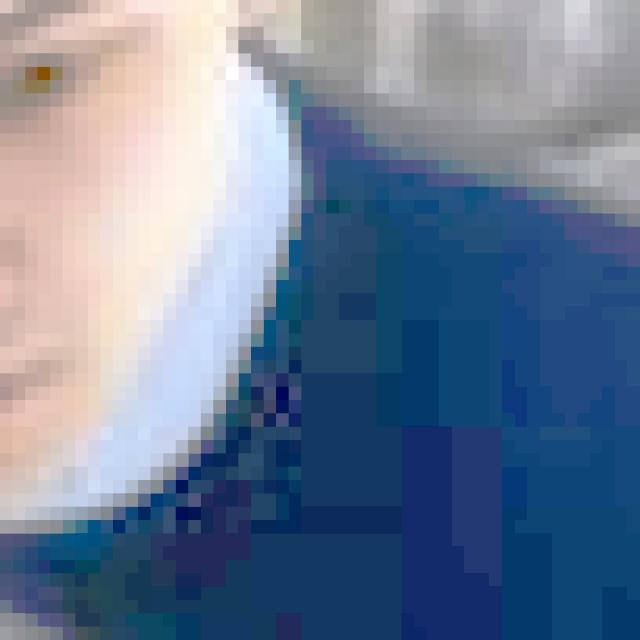arms: (0, 253, 640, 640)
